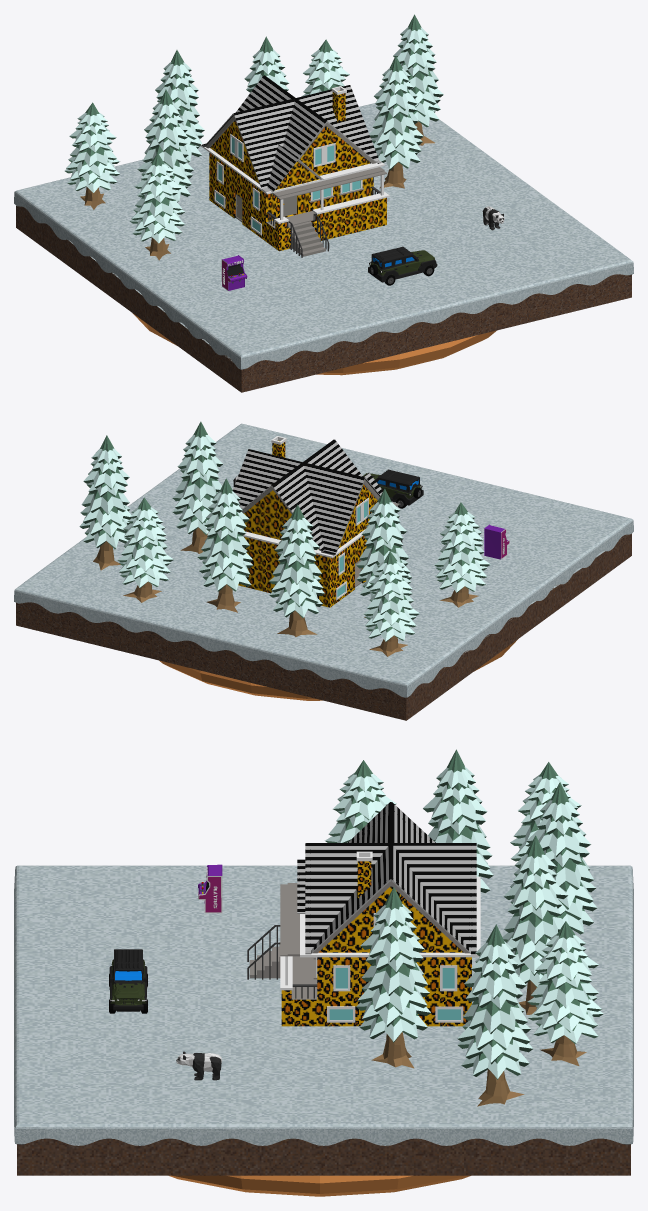
3 renders of one model, top to bottom at view 1: azimuth 30°, elevation 25°; view 2: azimuth 150°, elevation 25°; view 3: azimuth 270°, elevation 25°, orthographic. The views are drawn at different scales.
Visible parts, largest first — view 1: Cube.003, Cube.637, UNDERGROUND_PIZZA, VEHICLES_JEEP, OBJRANDOM_ARCADE; view 2: Cube.003, Cube.637, UNDERGROUND_PIZZA, VEHICLES_JEEP, OBJRANDOM_ARCADE; view 3: Cube.003, Cube.637, UNDERGROUND_PIZZA, VEHICLES_JEEP, OBJRANDOM_ARCADE, ANIMAL_PANDA.
Boxes of the visible parts, x1,y1,x2,y2 form: Cube.003: (14, 14, 633, 392); Cube.637: (200, 75, 389, 257); UNDERGROUND_PIZZA: (132, 313, 496, 375); VEHICLES_JEEP: (368, 246, 437, 285); OBJRANDOM_ARCADE: (221, 255, 247, 290); Cube.003: (14, 421, 633, 720); Cube.637: (232, 436, 402, 607); UNDERGROUND_PIZZA: (159, 639, 517, 700); VEHICLES_JEEP: (363, 469, 423, 508); OBJRANDOM_ARCADE: (484, 524, 509, 559); Cube.003: (14, 749, 633, 1175); Cube.637: (247, 802, 480, 1026); UNDERGROUND_PIZZA: (169, 1175, 470, 1196); VEHICLES_JEEP: (109, 949, 147, 1013); OBJRANDOM_ARCADE: (198, 864, 222, 913); ANIMAL_PANDA: (176, 1051, 221, 1080).
Bounding box in the file's own units: 4040 × 1904 × 4040.
Materials: 38 (4 with a texture image).
